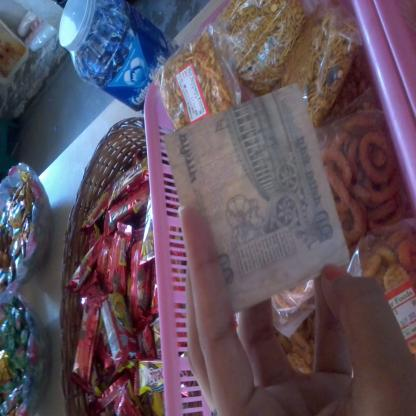Old50Back: (162, 81, 352, 315)
